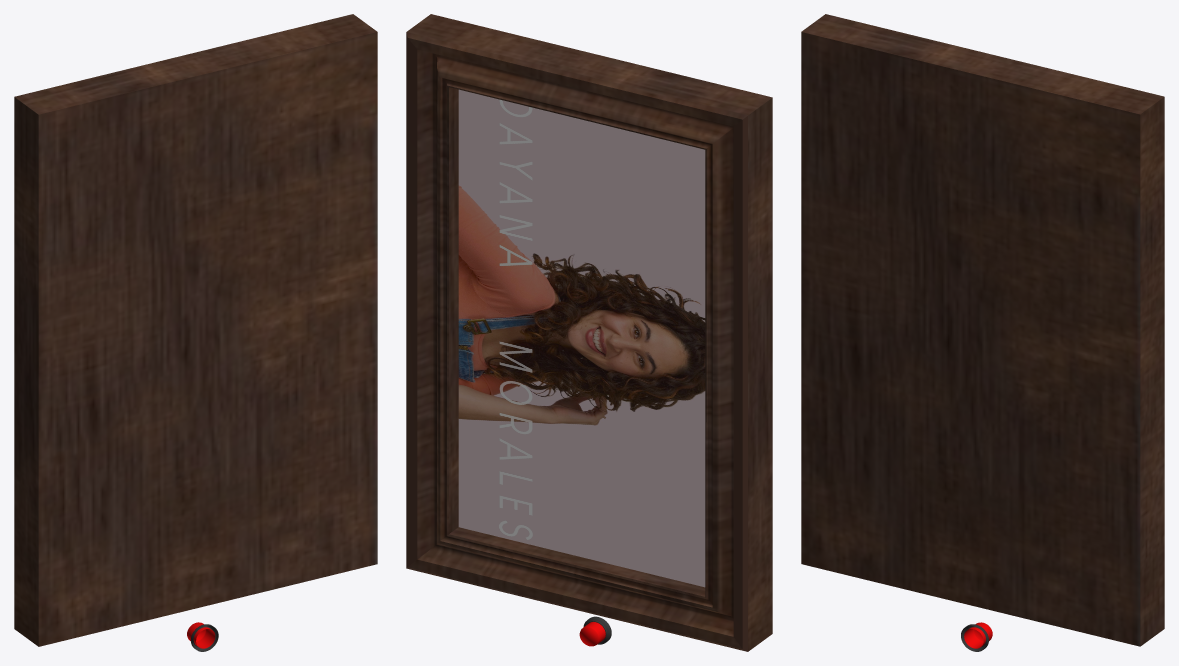
The picture shows the model from 3 angles, left to right: view 1: azimuth 30°, elevation 25°; view 2: azimuth 150°, elevation 25°; view 3: azimuth 330°, elevation 25°; orthographic projection.
Parts seen in each view (by area): view 1: Symmetry_1; view 2: Plane.001, Symmetry_1; view 3: Symmetry_1.
Boxes of the visible parts, x1,y1,x2,y2 form: Symmetry_1: (14,14,377,646); Plane.001: (458,89,705,587); Symmetry_1: (406,14,772,651); Symmetry_1: (801,14,1164,646).
Bounding box in the file's own units: 1.33 × 2.18 × 0.18.
Materials: 3 (3 with a texture image).
